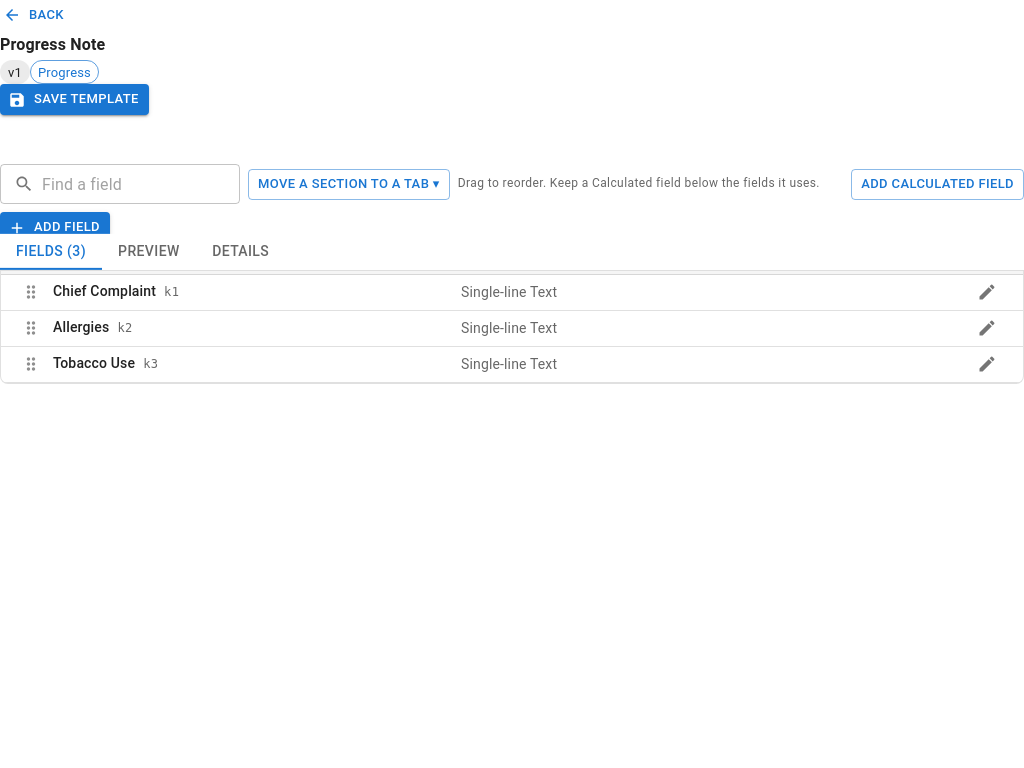
Scenario: editor: Find a field narrows the list and Add field opens a new field to edit
Check: the element with test id "field-list" is shown, box [0,251,1023,384]
Type "allerg" into the field labelled "Find a field" at [141, 184], box [42,164,240,204]
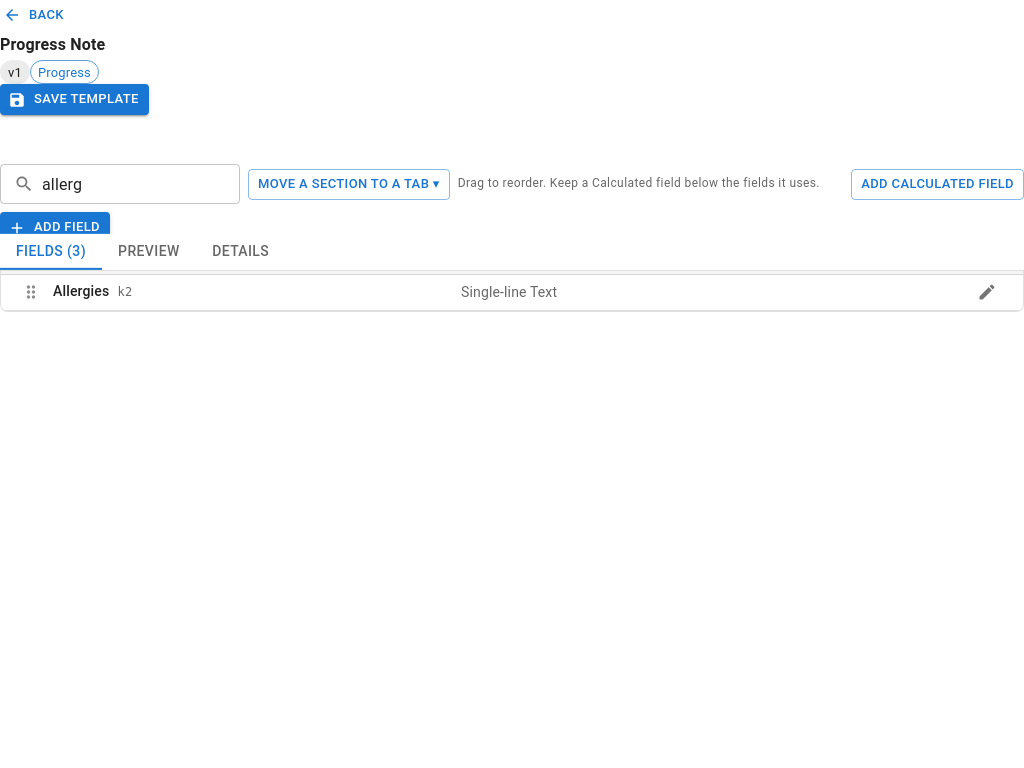
Check: the button named "Edit Allergies" is shown, box [971,277,1003,307]
Replace the text in the field named "Find a field" with "zzz" at [141, 184], box [42,164,240,204]
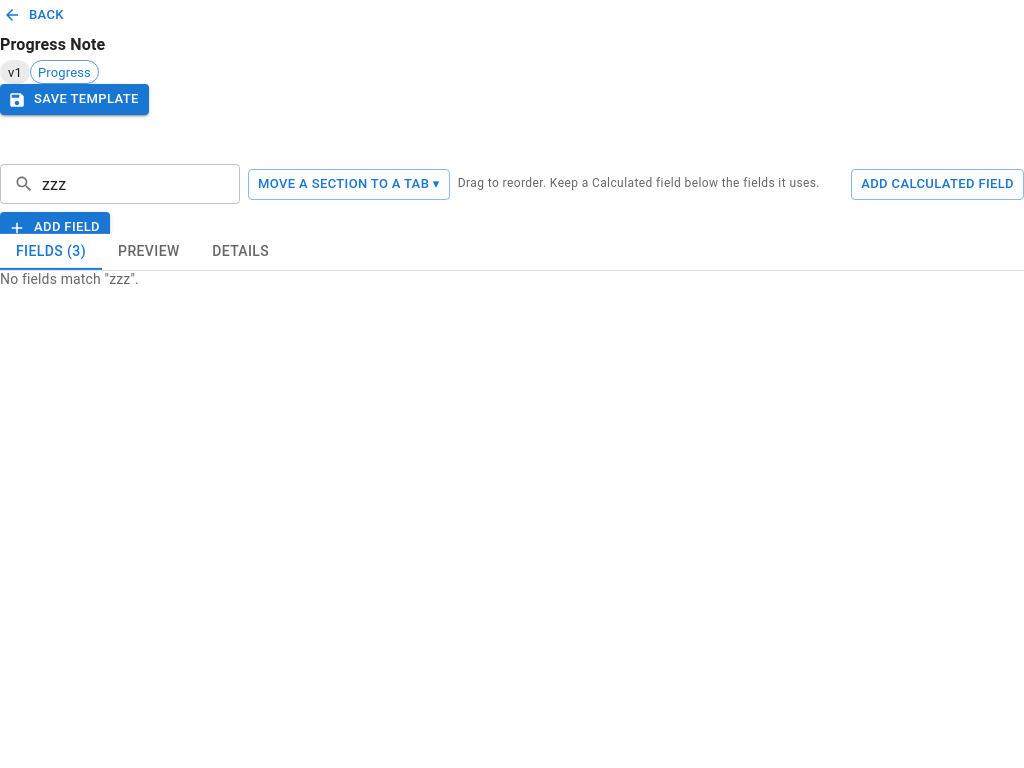
Check: the text "No fields match \"zzz\"." is shown, box [0,271,139,287]
Clear the field named "Find a field" at [141, 184], box [42,164,240,204]
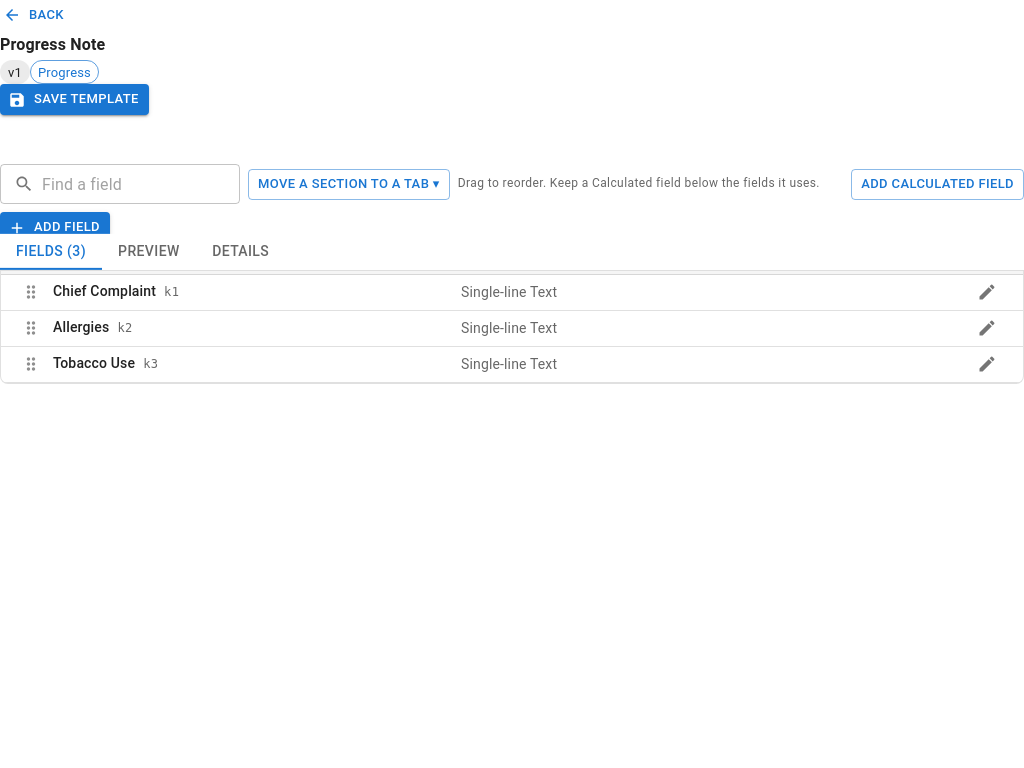
Click the button "Add field" at [55, 228], box [0,212,110,243]
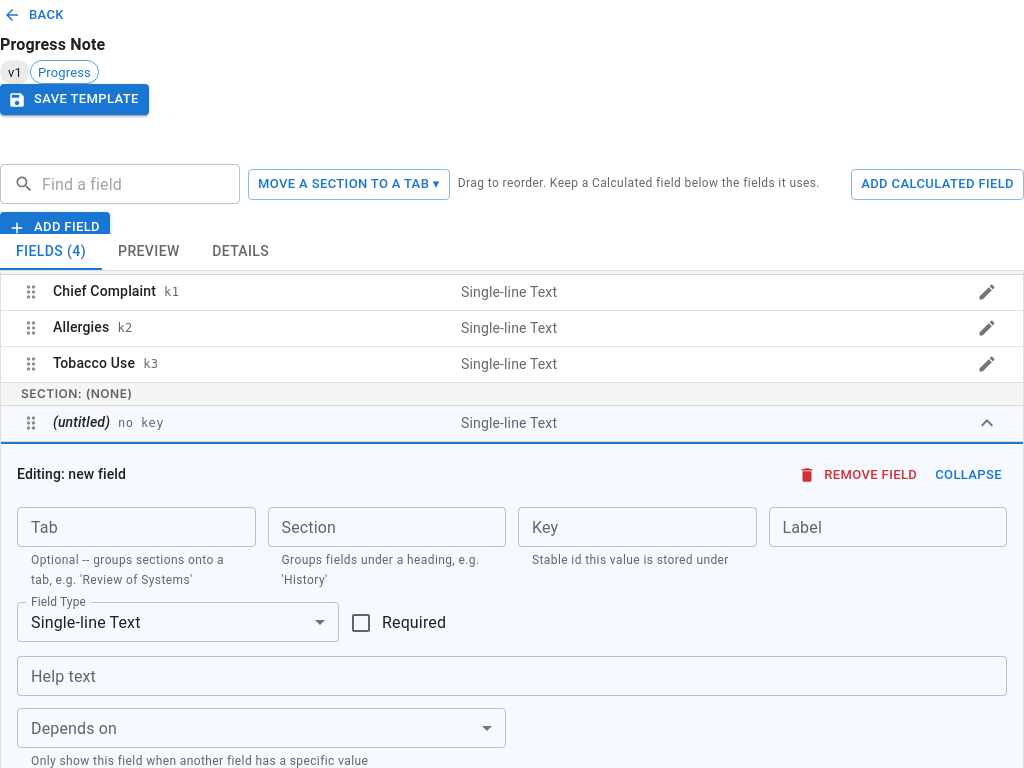
Check: the heading "Editing: new field" is shown, box [17,466,126,482]
Check: the tab "Fields (4)" is shown, box [0,234,102,270]
